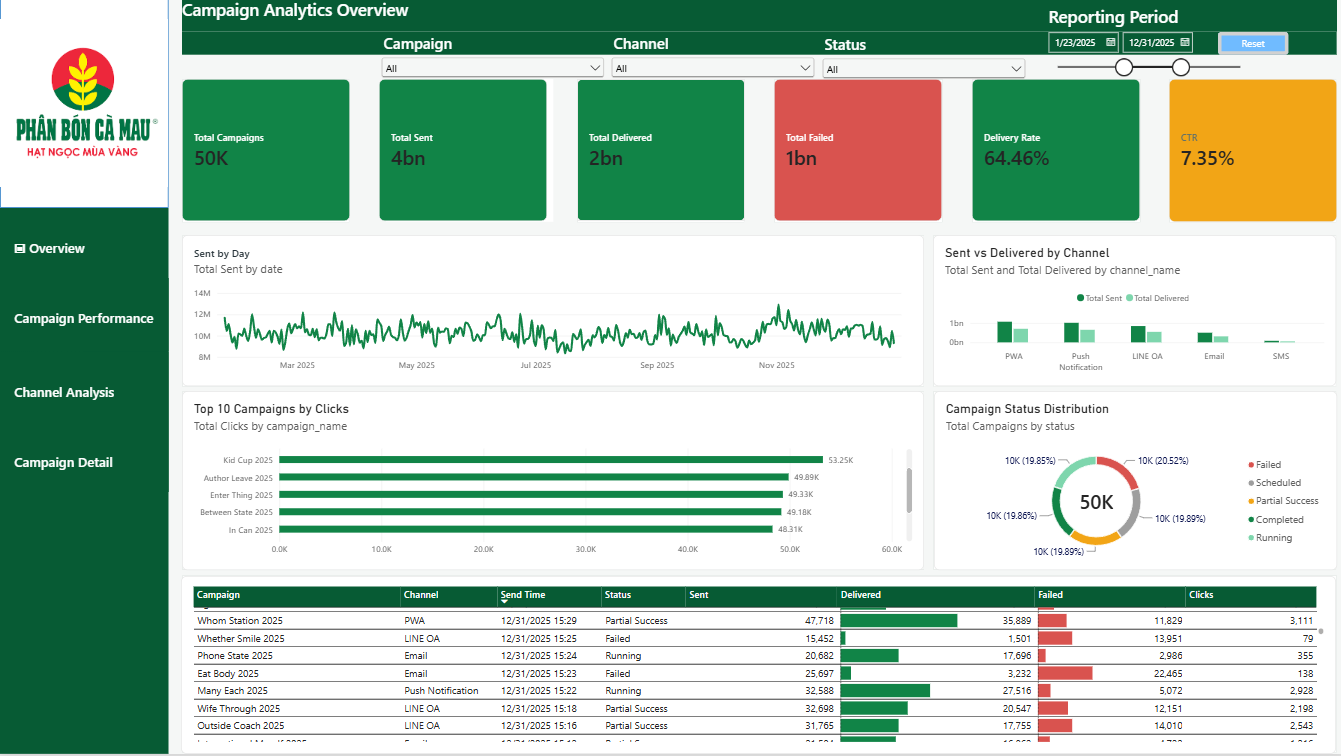

What the dashboard file says about the page in this screenshot:
{"tool":"powerbi","page":{"name":"Campaign Overview","canvas":[1920,1080],"ordinal":1},"visuals":[{"type":"shape","box":[0,299.8,240.7,779.8],"z":0},{"type":"shape","box":[0,0,240.7,299.8],"z":1000},{"type":"textbox","box":[0,299.8,240.7,100.4],"z":2000},{"type":"textbox","box":[0,400.2,240.7,104.9],"z":3000},{"type":"textbox","box":[0,505.1,240.7,100.4],"z":4000},{"type":"textbox","box":[0,605.5,240.7,100],"z":5000},{"type":"shape","title":"Campaign Analytics Overview","box":[260.1,0,1649.5,81.3],"z":6000},{"type":"shape","box":[824.8,115.3,239.4,205.5],"z":7000},{"type":"shape","box":[260.1,115.3,239.4,205.5],"z":8000},{"type":"shape","box":[551.3,115.3,239.4,204],"z":9000},{"type":"shape","box":[1105.6,115.3,240.9,205.5],"z":10000},{"type":"shape","box":[1387.9,115.3,240.9,205.5],"z":11000},{"type":"shape","box":[1670.2,115.3,239.4,205.5],"z":12000},{"type":"shape","box":[260.1,338.5,1060.4,217.1],"z":13000},{"type":"shape","box":[259.9,561.2,1060.4,255.5],"z":14000},{"type":"shape","box":[1333.2,338.5,576.4,217.3],"z":15000},{"type":"shape","box":[1333.2,561.7,576.4,255.7],"z":16000},{"type":"shape","box":[260.1,824.8,1649.5,254.2],"z":17000},{"type":"image","box":[0,0,240.7,299.8],"z":18000},{"type":"slicer","fields":{"Values":["dim_calendar.date"]},"box":[1489.9,10.3,300,310.4],"z":19000},{"type":"slicer","fields":{"Values":["dim_campaign.campaign_name"]},"box":[524.7,44.3,328.1,65],"z":20000},{"type":"slicer","fields":{"Values":["dim_channel.channel_name"]},"box":[869.1,44.3,300,73.9],"z":21000},{"type":"slicer","fields":{"Values":["dim_campaign.status"]},"box":[1182.4,42.9,300,63.6],"z":22000},{"type":"actionButton","box":[1740,48.6,100.5,32.5],"z":23000}]}

Visuals, with their boxes on the page's 1920x1080 design canvas (x1, y1, x2, y2). These are canvas units, not pixel positions in the 1341x756 screenshot, which may show the page scaled, cropped or inside an application window:
shape: x1=0 y1=300 x2=241 y2=1080
shape: x1=0 y1=0 x2=241 y2=300
textbox: x1=0 y1=300 x2=241 y2=400
textbox: x1=0 y1=400 x2=241 y2=505
textbox: x1=0 y1=505 x2=241 y2=606
textbox: x1=0 y1=606 x2=241 y2=706
"Campaign Analytics Overview" shape: x1=260 y1=0 x2=1910 y2=81
shape: x1=825 y1=115 x2=1064 y2=321
shape: x1=260 y1=115 x2=500 y2=321
shape: x1=551 y1=115 x2=791 y2=319
shape: x1=1106 y1=115 x2=1346 y2=321
shape: x1=1388 y1=115 x2=1629 y2=321
shape: x1=1670 y1=115 x2=1910 y2=321
shape: x1=260 y1=338 x2=1320 y2=556
shape: x1=260 y1=561 x2=1320 y2=817
shape: x1=1333 y1=338 x2=1910 y2=556
shape: x1=1333 y1=562 x2=1910 y2=817
shape: x1=260 y1=825 x2=1910 y2=1079
image: x1=0 y1=0 x2=241 y2=300
slicer - dim_calendar.date: x1=1490 y1=10 x2=1790 y2=321
slicer - dim_campaign.campaign_name: x1=525 y1=44 x2=853 y2=109
slicer - dim_channel.channel_name: x1=869 y1=44 x2=1169 y2=118
slicer - dim_campaign.status: x1=1182 y1=43 x2=1482 y2=106
actionButton: x1=1740 y1=49 x2=1840 y2=81
